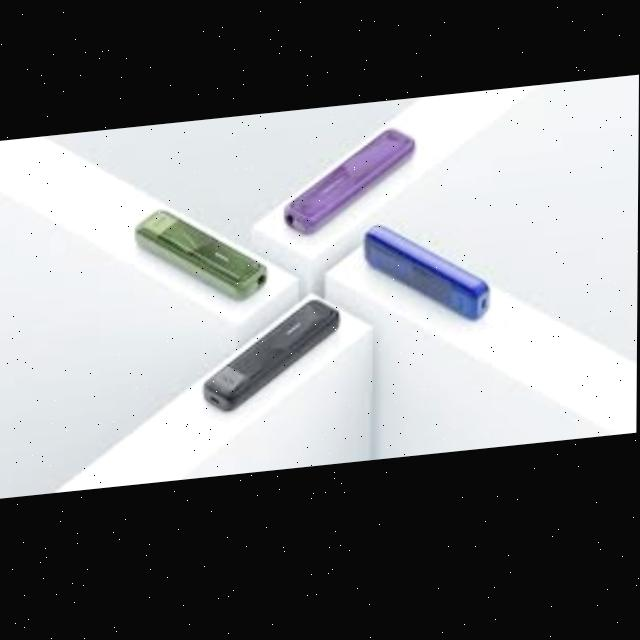vape: (203, 304, 343, 421), (362, 224, 492, 342), (135, 204, 268, 317), (284, 135, 418, 246)
